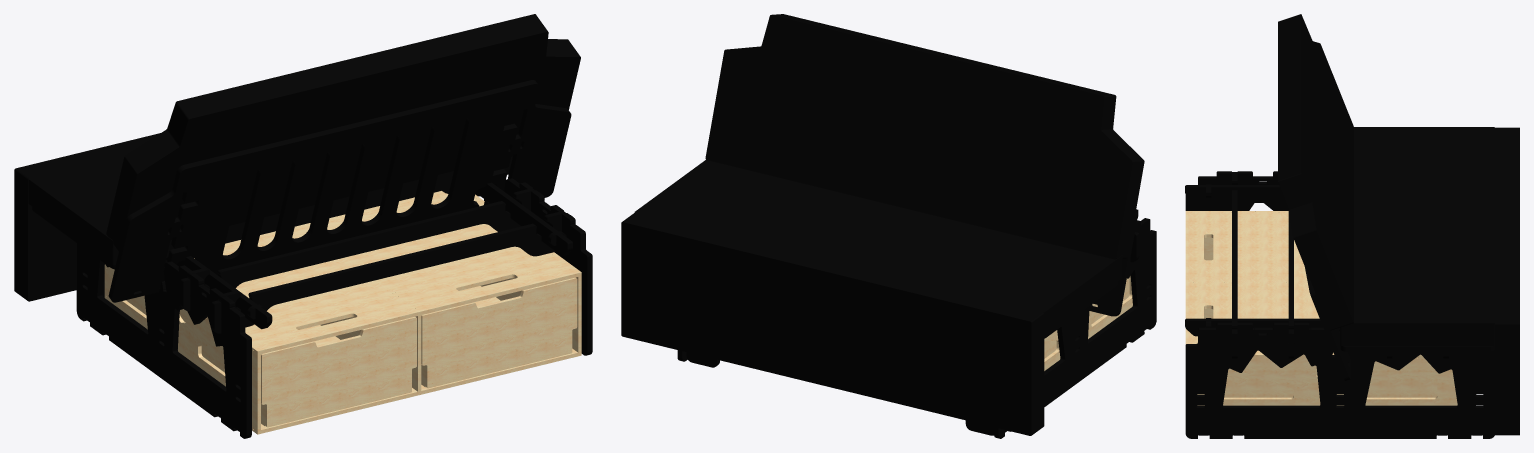
Rendered from Cuillin_expedition_assise.glb.
3 renders of one model, left to right at view 1: azimuth 30°, elevation 25°; view 2: azimuth 150°, elevation 25°; view 3: azimuth 270°, elevation 25°, orthographic. The views are drawn at different scales.
Bounding box in the file's own units: 1.51 × 0.9563 × 1.08.
2 materials, 1 textured.
